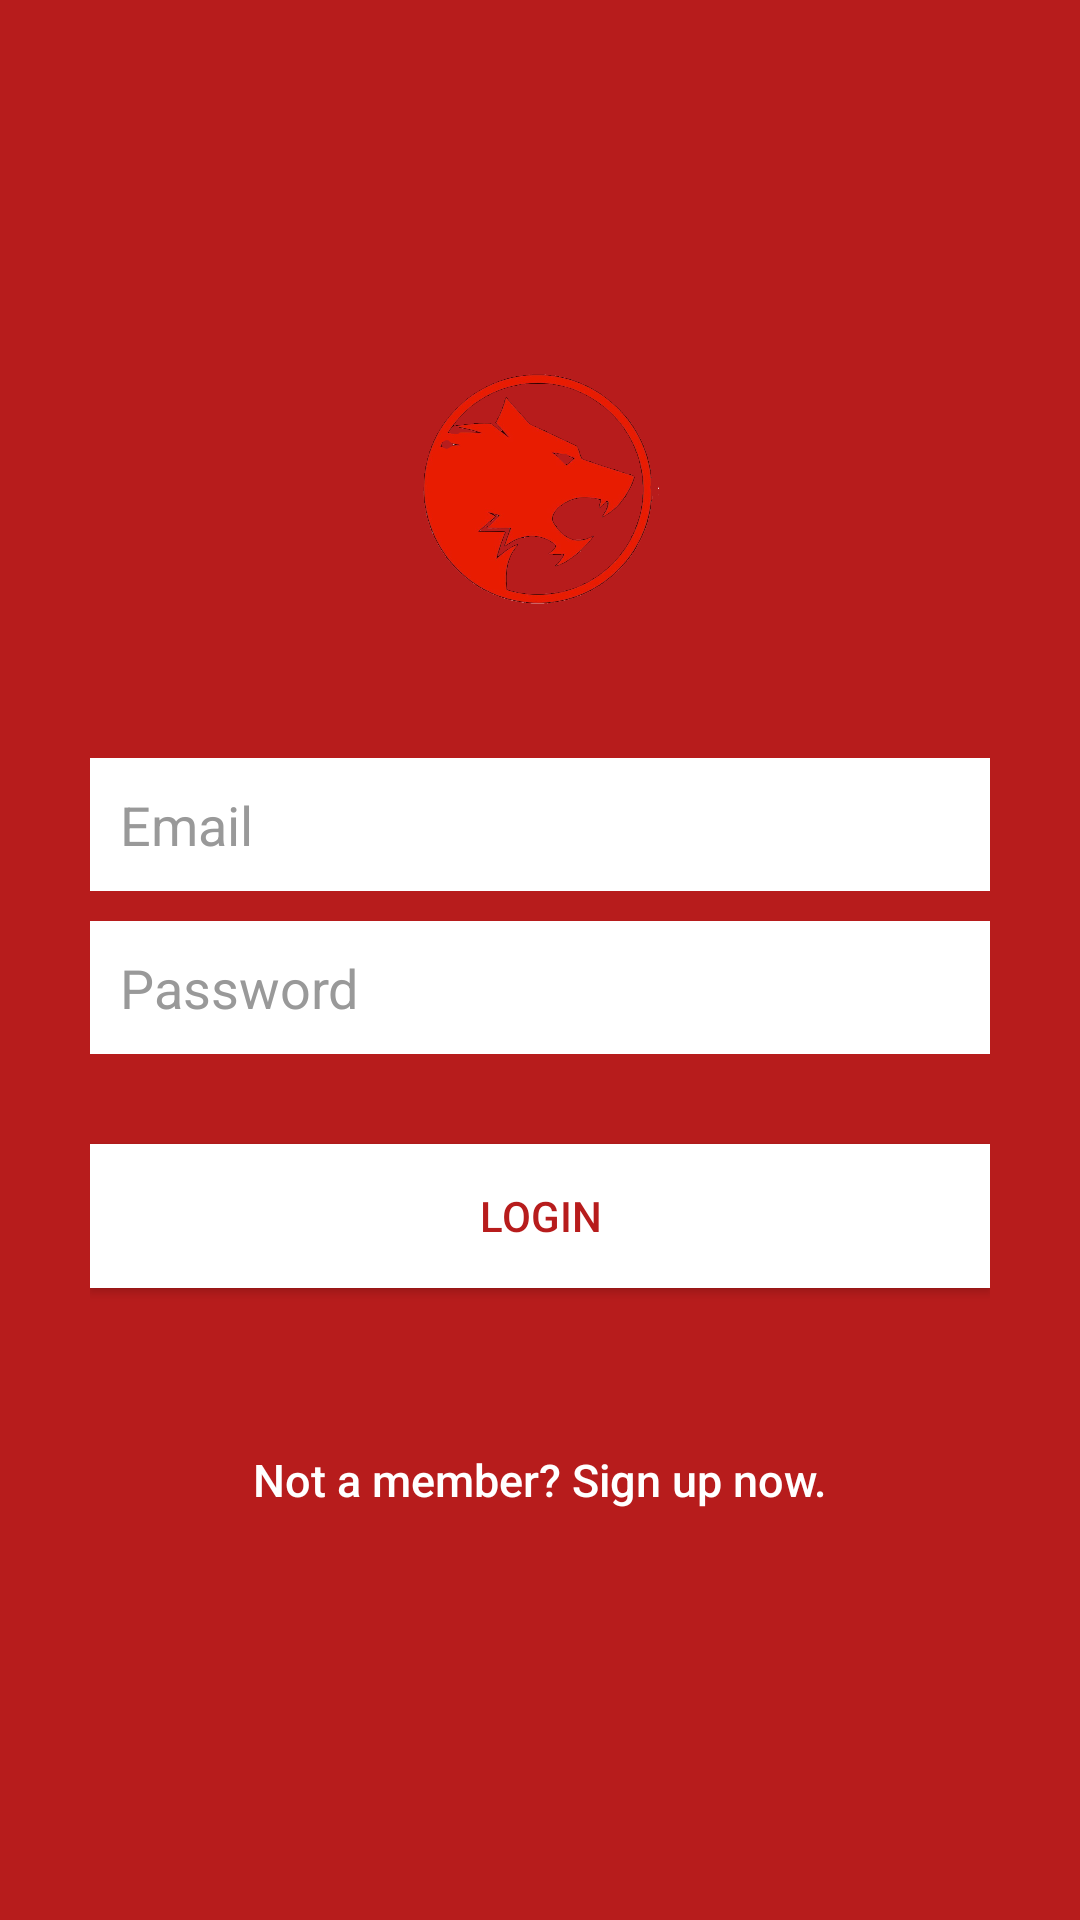

Icons on this 1080px×1920px Android screen, each with its box as {"left": x1, "top": y1, "right": x2, "bottom": y2}:
wolfquiz: {"left": 424, "top": 374, "right": 659, "bottom": 604}
